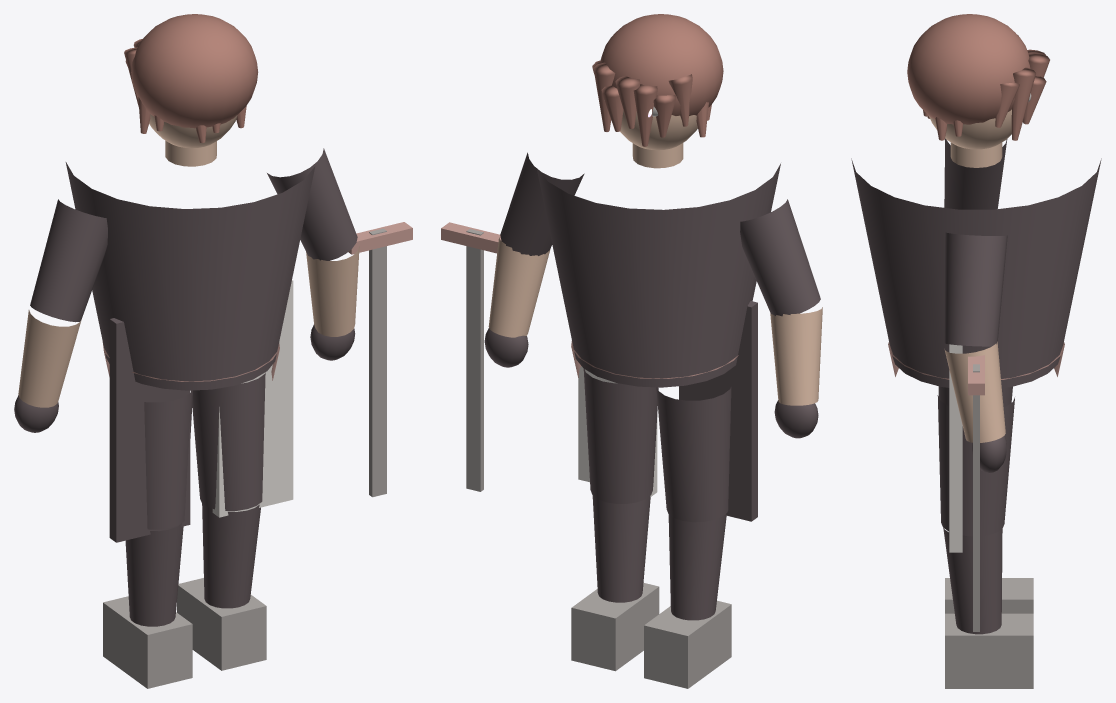
The model's file is remesis-procedural-v1.glb.
3 views of the same model, side by side, from view 1: azimuth 30°, elevation 25°; view 2: azimuth 150°, elevation 25°; view 3: azimuth 270°, elevation 25° (orthographic). The views are drawn at different scales.
Parts seen in each view (by area): view 1: Outfit_Torso, Hair_Cap, Outfit_CoatTail_L, Body_Thigh_R, Body_UpperArm_L, Outfit_CoatTail_R, Outfit_Boot_L, Body_Thigh_L, Outfit_Boot_R, Body_Shin_R, Body_Shin_L, Weapon_SwordBlade (+8 smaller); view 2: Outfit_Torso, Body_Thigh_L, Body_Thigh_R, Hair_Cap, Outfit_CoatTail_L, Body_UpperArm_L, Outfit_Boot_L, Outfit_Boot_R, Body_Shin_R, Body_Shin_L, Weapon_SwordBlade, Body_Forearm_L (+14 smaller); view 3: Outfit_Torso, Hair_Cap, Body_UpperArm_R, Outfit_Boot_R, Body_Thigh_R, Body_Shin_R, Body_Forearm_R, Body_UpperArm_L, Outfit_CoatTail_R, Weapon_SwordBlade, Body_Head, Outfit_Boot_L (+8 smaller).
Part boxes in pixels (x1,y1,x2,y2): Outfit_Torso: (65,162,315,390); Hair_Cap: (131,14,258,128); Outfit_CoatTail_L: (109,318,190,542); Body_Thigh_R: (191,372,265,510); Body_UpperArm_L: (30,199,107,322); Outfit_CoatTail_R: (212,280,293,517); Outfit_Boot_L: (103,596,192,688); Body_Thigh_L: (144,390,192,529); Outfit_Boot_R: (177,578,266,670); Body_Shin_R: (202,503,260,608); Body_Shin_L: (125,523,183,626); Weapon_SwordBlade: (369,228,386,497); Outfit_Torso: (536,163,780,387); Body_Thigh_L: (656,387,731,522); Body_Thigh_R: (583,369,658,503); Hair_Cap: (600,14,723,115); Outfit_CoatTail_L: (679,301,757,521); Body_UpperArm_L: (740,199,820,316); Outfit_Boot_L: (644,600,731,688); Outfit_Boot_R: (571,583,659,671); Body_Shin_R: (592,495,650,602); Body_Shin_L: (668,514,726,620); Weapon_SwordBlade: (466,229,483,491); Body_Forearm_L: (770,307,822,405); Outfit_Torso: (851,158,1101,387); Hair_Cap: (907,14,1030,124); Body_UpperArm_R: (944,232,1007,346); Outfit_Boot_R: (945,613,1033,688); Body_Thigh_R: (937,395,1014,536); Body_Shin_R: (943,528,1002,634); Body_Forearm_R: (944,341,1005,442); Body_UpperArm_L: (944,138,1007,209); Outfit_CoatTail_R: (949,344,962,552); Weapon_SwordBlade: (973,364,979,631); Body_Head: (929,109,1011,149); Outfit_Boot_L: (945,578,1033,613).
Size of the model in its own units: 1.19 by 1.89 by 0.6724.
